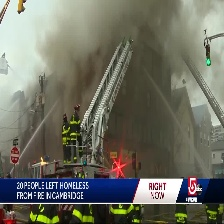smoke: (34, 1, 216, 128)
